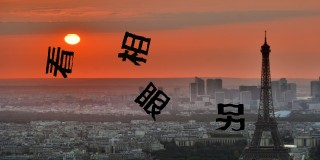另: (213, 99, 247, 133)
相: (118, 29, 152, 66)
看: (44, 44, 75, 78)
眼: (132, 80, 171, 122)
